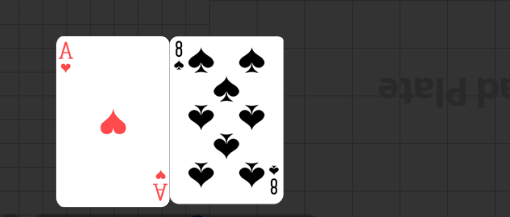8S: (267, 162, 280, 196)
AH: (58, 41, 75, 76)
